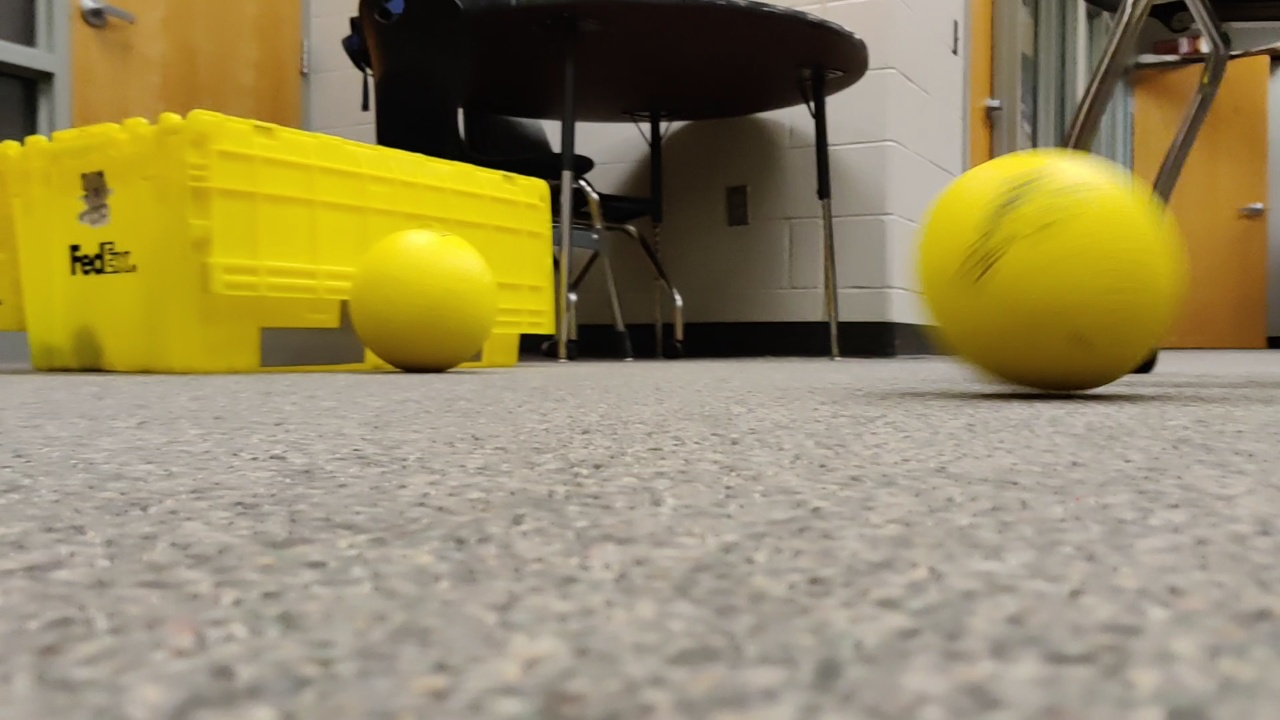Ball: (914, 143, 1192, 388), (349, 226, 497, 376)
